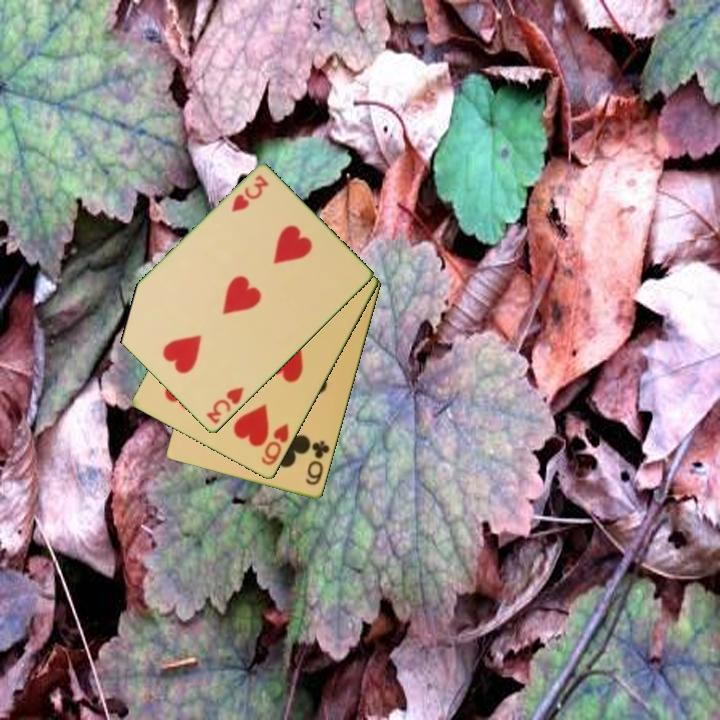3h: (228, 171, 272, 215), (202, 384, 247, 427)
6c: (302, 438, 333, 488)
6h: (258, 420, 292, 469)
